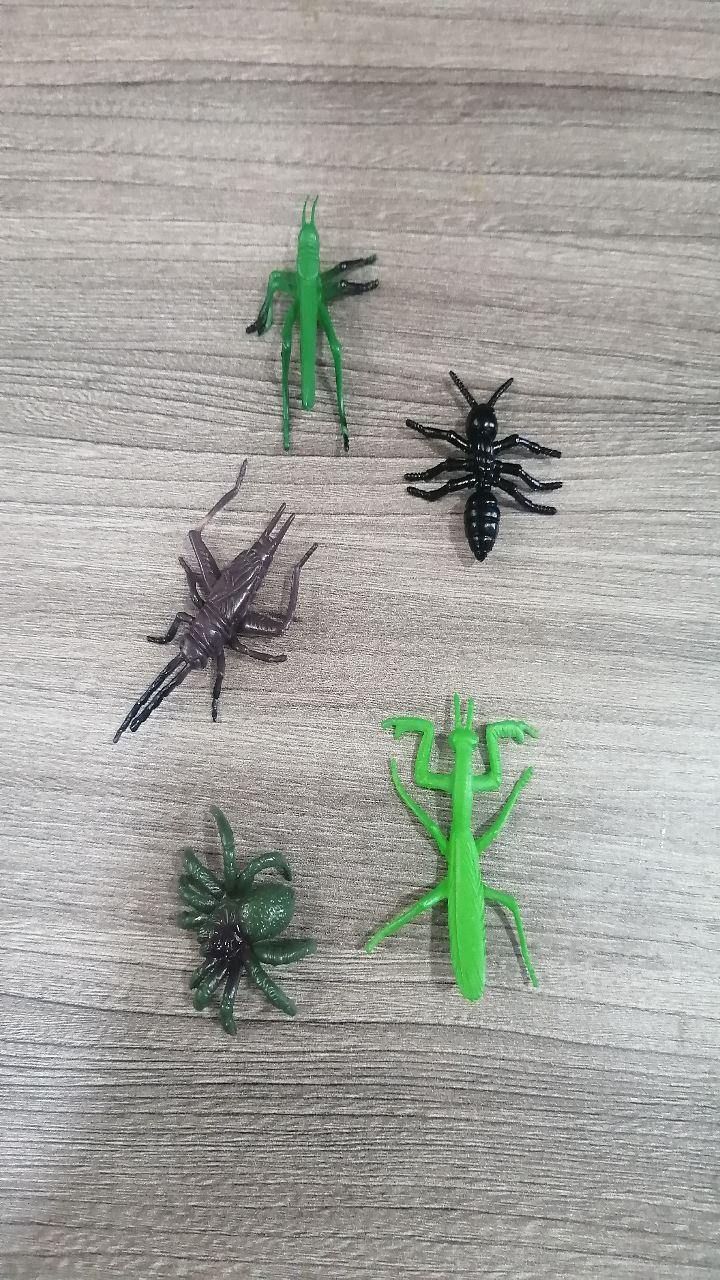intruso: (55, 442, 352, 762), (346, 646, 561, 1031), (115, 760, 366, 1071), (212, 160, 386, 477), (400, 329, 581, 583)
